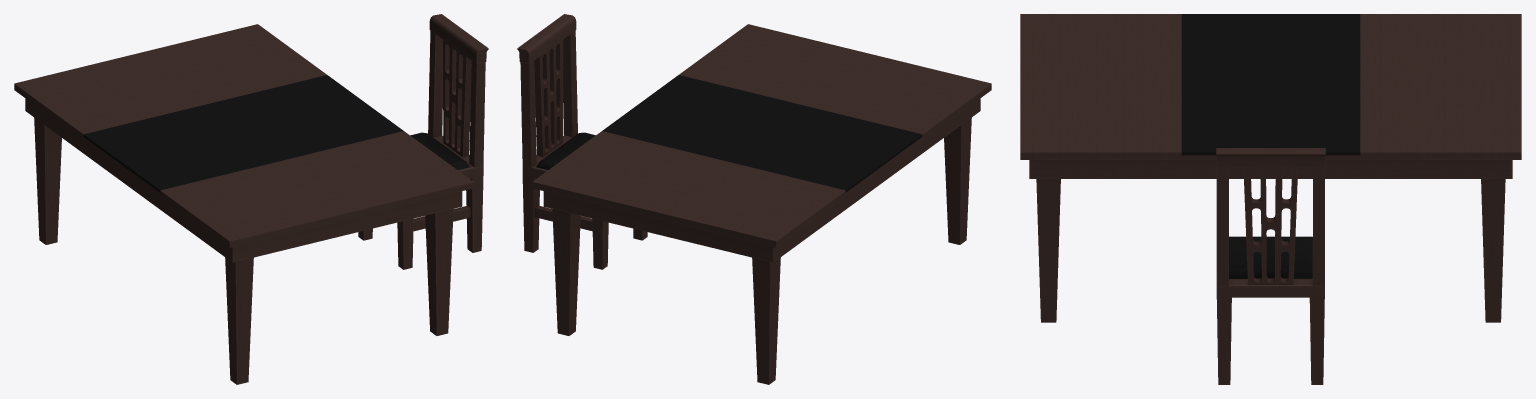
The model's file is dining_table_and_chair.fbx.
3 views of the same model, side by side, from view 1: azimuth 30°, elevation 25°; view 2: azimuth 150°, elevation 25°; view 3: azimuth 270°, elevation 25° (orthographic). The views are drawn at different scales.
Visible parts, largest first — view 1: dining_table_mesh, dining_chair_mesh; view 2: dining_table_mesh, dining_chair_mesh; view 3: dining_table_mesh, dining_chair_mesh.
Part boxes in pixels (x1=…): dining_table_mesh: x1=14, y1=24, x2=473, y2=384; dining_chair_mesh: x1=358, y1=14, x2=488, y2=269; dining_table_mesh: x1=532, y1=24, x2=991, y2=384; dining_chair_mesh: x1=517, y1=14, x2=647, y2=269; dining_table_mesh: x1=1020, y1=14, x2=1521, y2=322; dining_chair_mesh: x1=1216, y1=148, x2=1325, y2=384.
Size of the model in its own units: 3.47 by 1.95 by 3.77.
